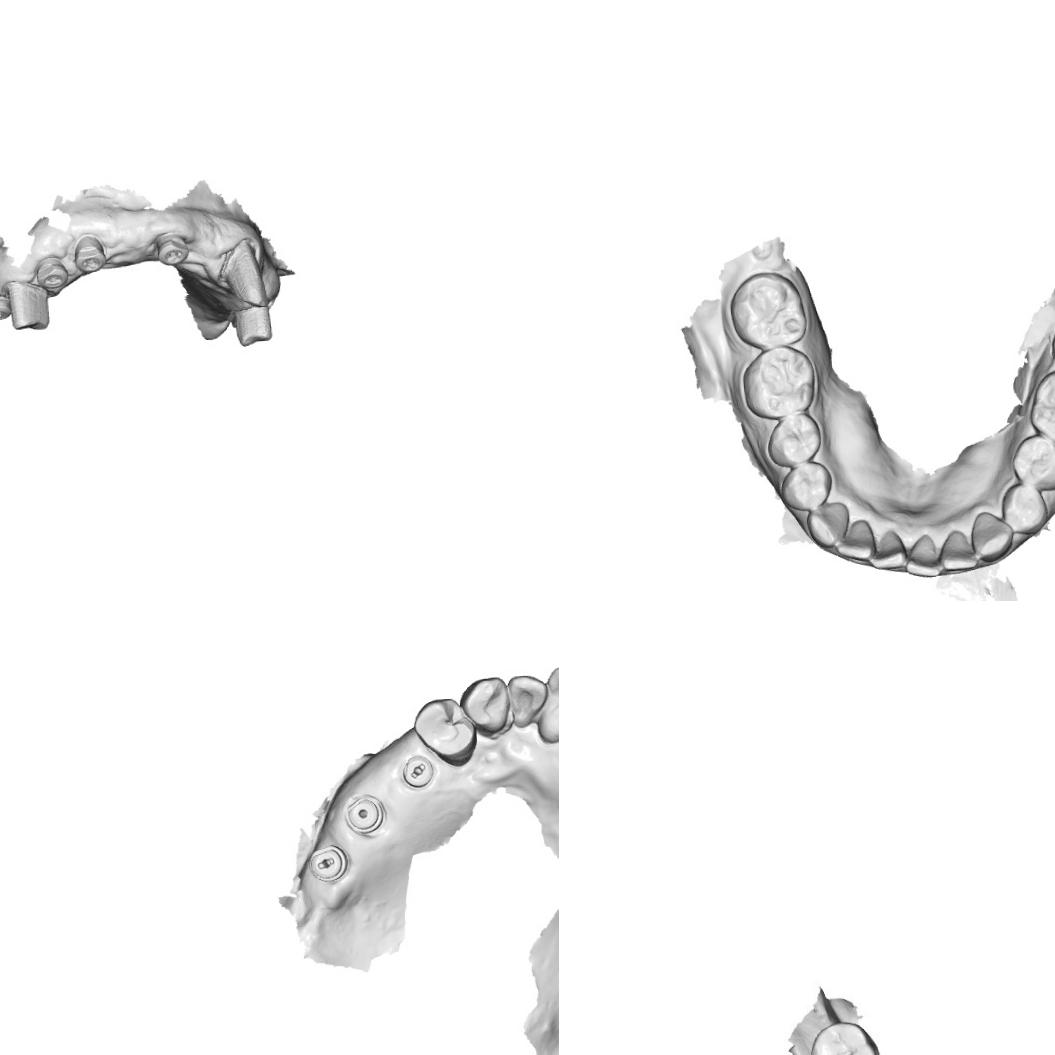canine: (458, 672, 512, 736), (219, 237, 266, 309), (968, 510, 1016, 564), (804, 499, 851, 548)
crown: (3, 276, 51, 334), (229, 302, 273, 348)
implant: (340, 792, 389, 836), (71, 233, 107, 276)
implant_minus: (305, 842, 351, 882), (30, 254, 69, 292), (398, 753, 436, 790), (0, 289, 11, 323)
implant_plus: (152, 228, 191, 268)
incisor: (504, 671, 548, 730), (531, 662, 559, 747), (936, 526, 979, 572), (833, 517, 876, 562), (902, 531, 941, 579), (866, 527, 908, 571)
molar: (725, 269, 810, 352), (740, 342, 818, 424), (1025, 363, 1055, 450), (811, 1019, 878, 1055)
premolar: (410, 694, 482, 769), (764, 410, 824, 469), (777, 460, 834, 514), (1009, 431, 1055, 493), (998, 480, 1048, 536), (258, 253, 282, 303)
